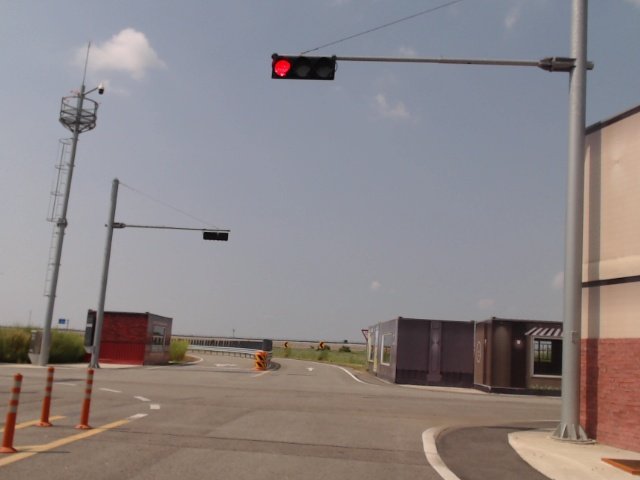red_3: (272, 55, 334, 80)
